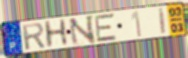1: (131, 10, 143, 39)
E: (94, 12, 118, 43)
H: (43, 18, 70, 50)
I: (157, 7, 168, 36)
N: (67, 14, 97, 48)
R: (21, 22, 47, 51)
